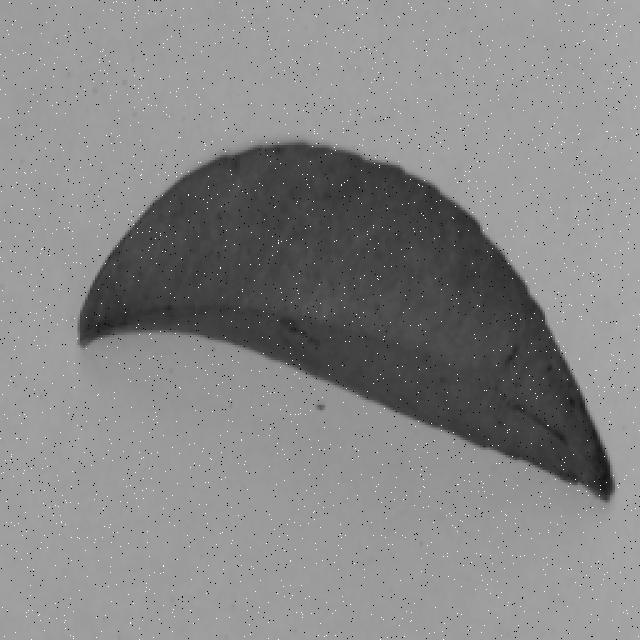greening: (62, 135, 616, 522)
